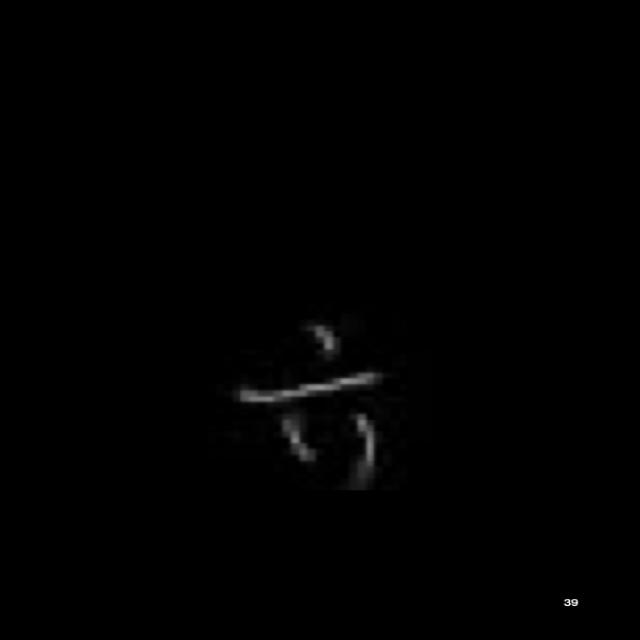6 -six-: (221, 317, 402, 489)
